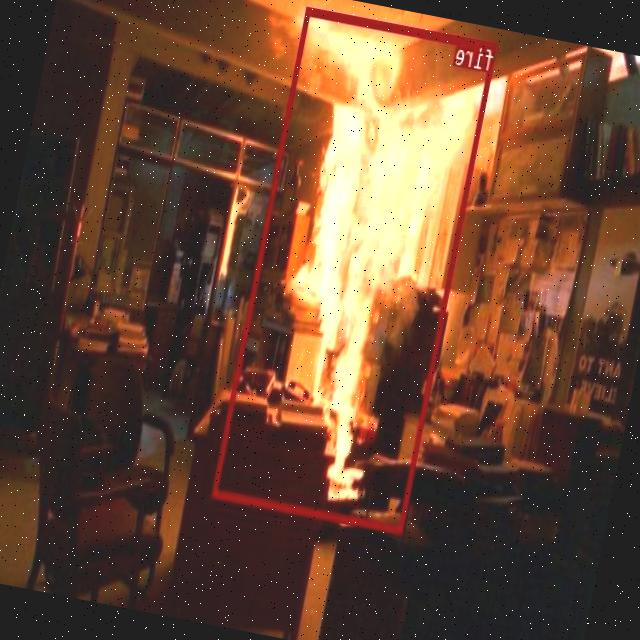fire: (213, 7, 498, 534)
